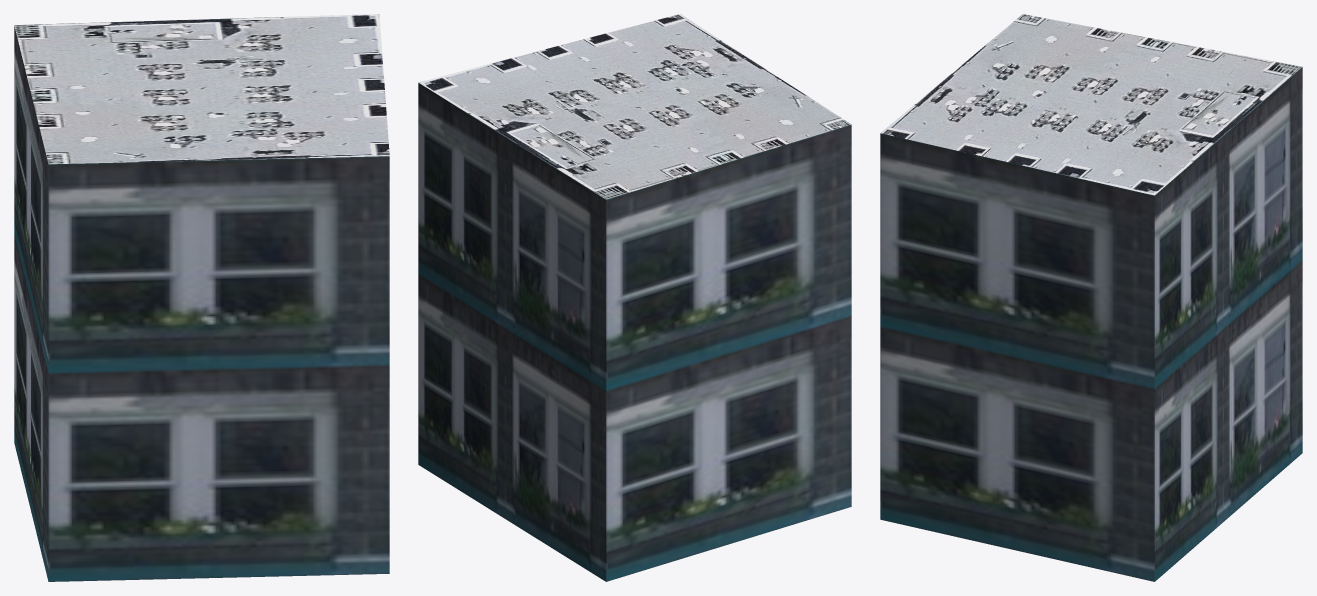
Rendered from ResTex__2411.fbx.
3 views of the same model, side by side, from view 1: azimuth 30°, elevation 25°; view 2: azimuth 150°, elevation 25°; view 3: azimuth 270°, elevation 25° (orthographic). The views are drawn at different scales.
Visible parts, largest first — view 1: CityEngineMaterial_11_m, CityEngineMaterial_2_m; view 2: CityEngineMaterial_11_m, CityEngineMaterial_2_m; view 3: CityEngineMaterial_11_m, CityEngineMaterial_2_m.
Part boxes in pixels (box(x1,y1,x2,y2)): CityEngineMaterial_11_m: box(14, 26, 389, 581); CityEngineMaterial_2_m: box(14, 14, 389, 164); CityEngineMaterial_11_m: box(418, 83, 851, 581); CityEngineMaterial_2_m: box(418, 14, 851, 199); CityEngineMaterial_11_m: box(880, 67, 1302, 581); CityEngineMaterial_2_m: box(881, 14, 1302, 195).
Bounding box in the file's own units: 6.05 × 6 × 5.94.
2 materials, 2 textured.
